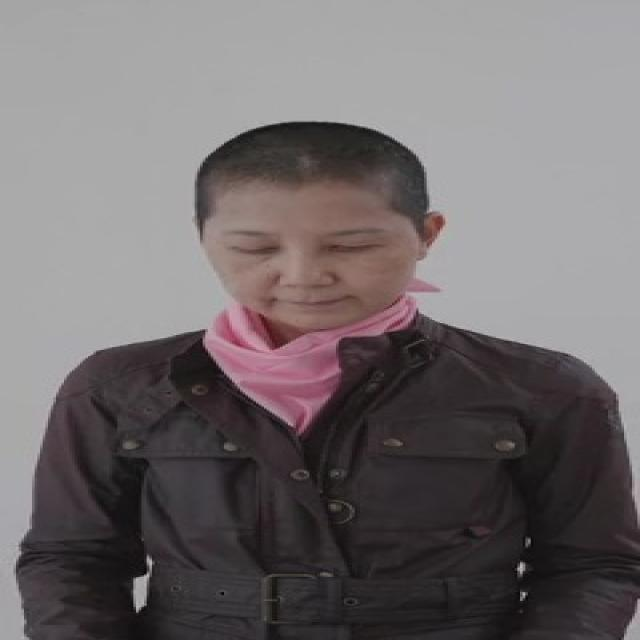Person: (24, 132, 640, 640)
